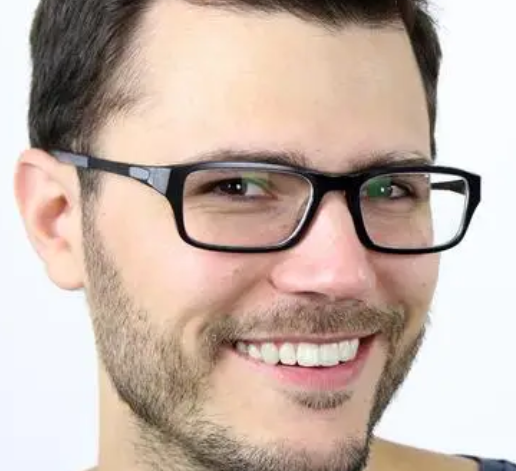glass: (34, 131, 481, 259)
mouth: (200, 309, 405, 393)
